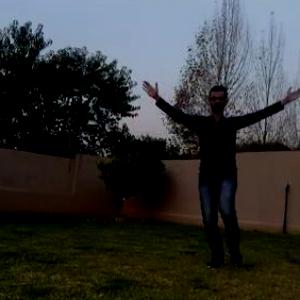takeoff: (151, 84, 299, 271)
